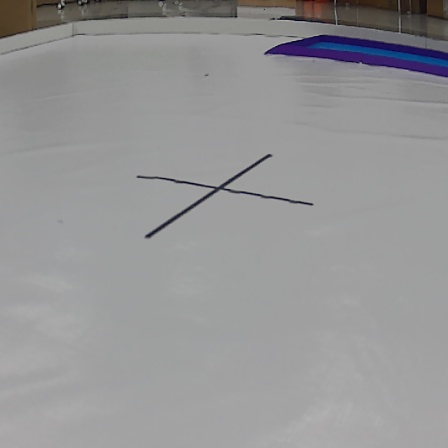blue_aim: (261, 32, 448, 83)
